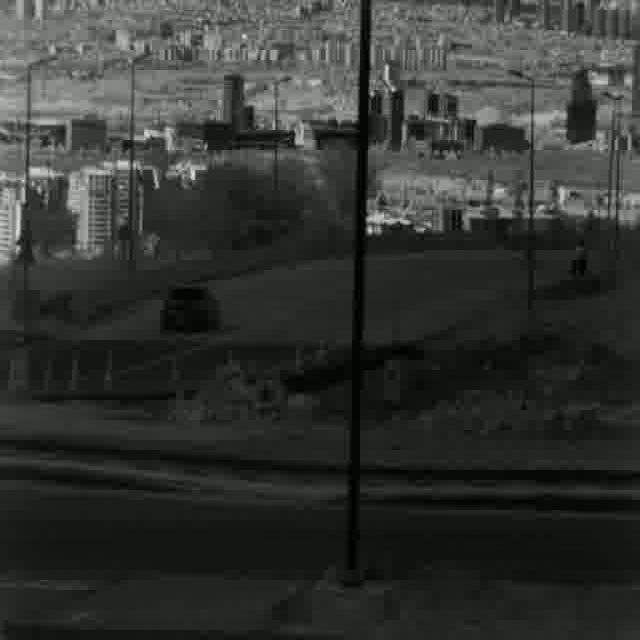Car: (155, 286, 223, 335)
Motorcycle: (565, 239, 588, 277)
